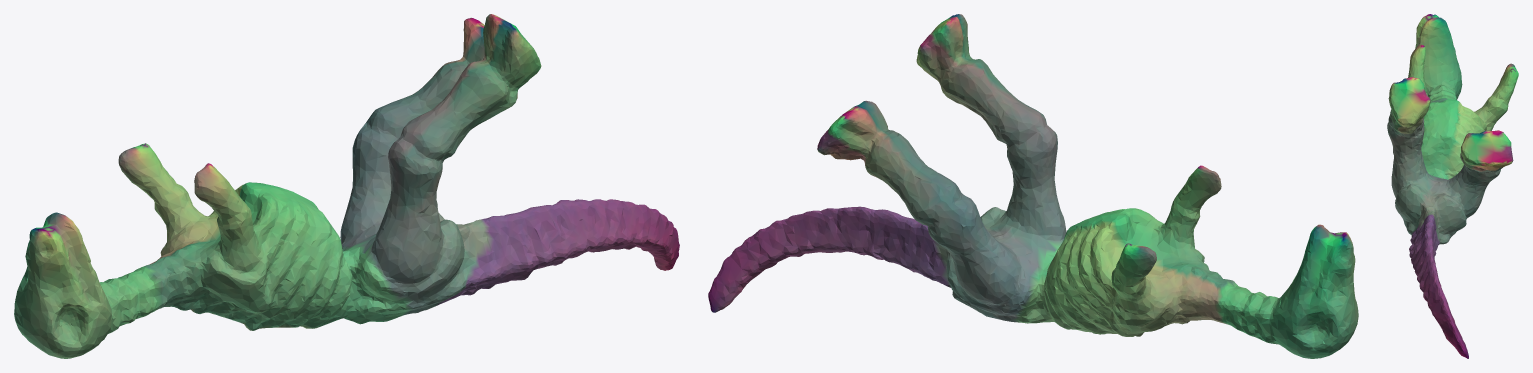
Rendered from dino_skel-2.off.obj.
The picture shows the model from 3 angles, left to right: view 1: azimuth 30°, elevation 25°; view 2: azimuth 150°, elevation 25°; view 3: azimuth 270°, elevation 25°; orthographic projection. The views are drawn at different scales.
Size of the model in its own units: 1.57 by 0.7505 by 0.4171.
